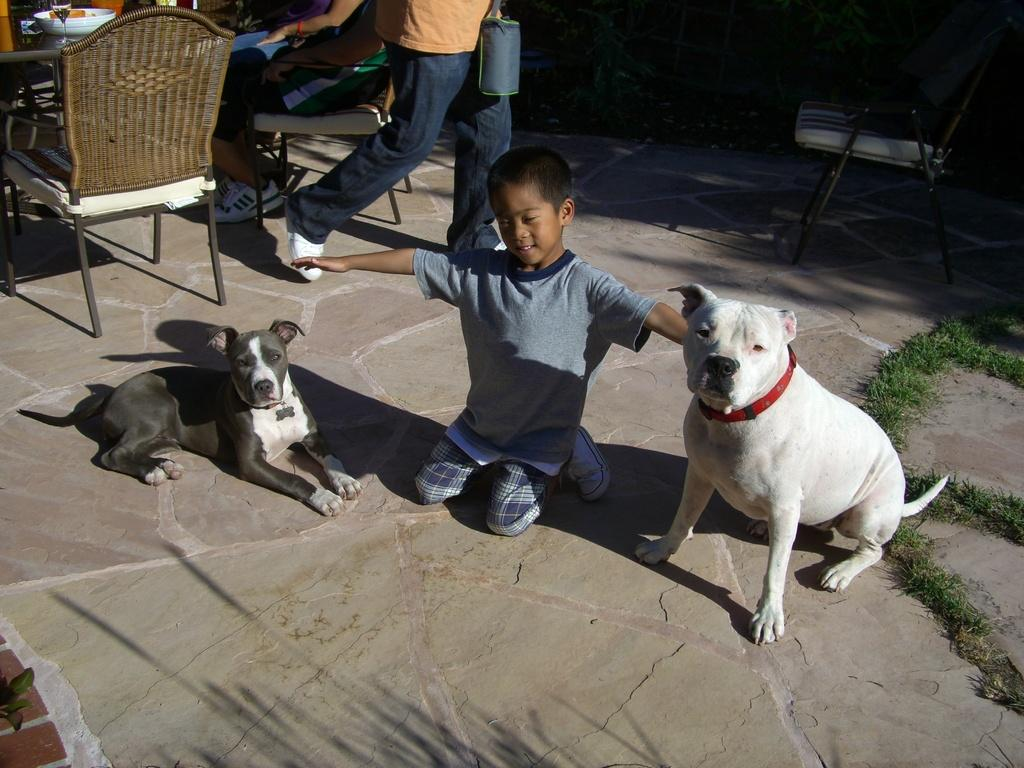Chair: (0, 5, 236, 337), (775, 4, 1014, 285)
